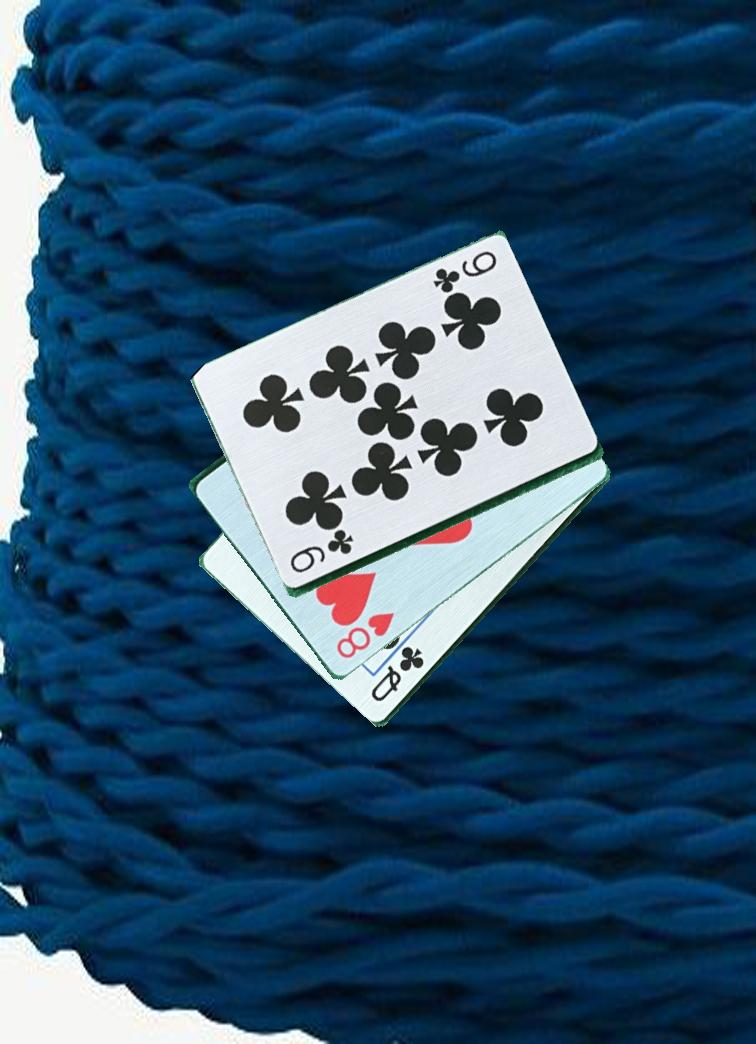8h: (332, 609, 398, 663)
9c: (426, 247, 500, 301), (286, 532, 356, 577)
qc: (367, 644, 428, 706)
